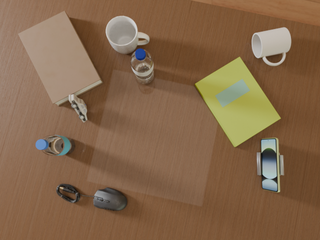book: (19, 11, 103, 106), (195, 57, 281, 147)
bottle: (131, 49, 154, 84), (36, 135, 75, 155)
cup: (106, 16, 149, 54), (252, 28, 291, 66)
mouse: (92, 188, 127, 211)
phone: (261, 138, 280, 192)
toy_car: (69, 94, 87, 122)
